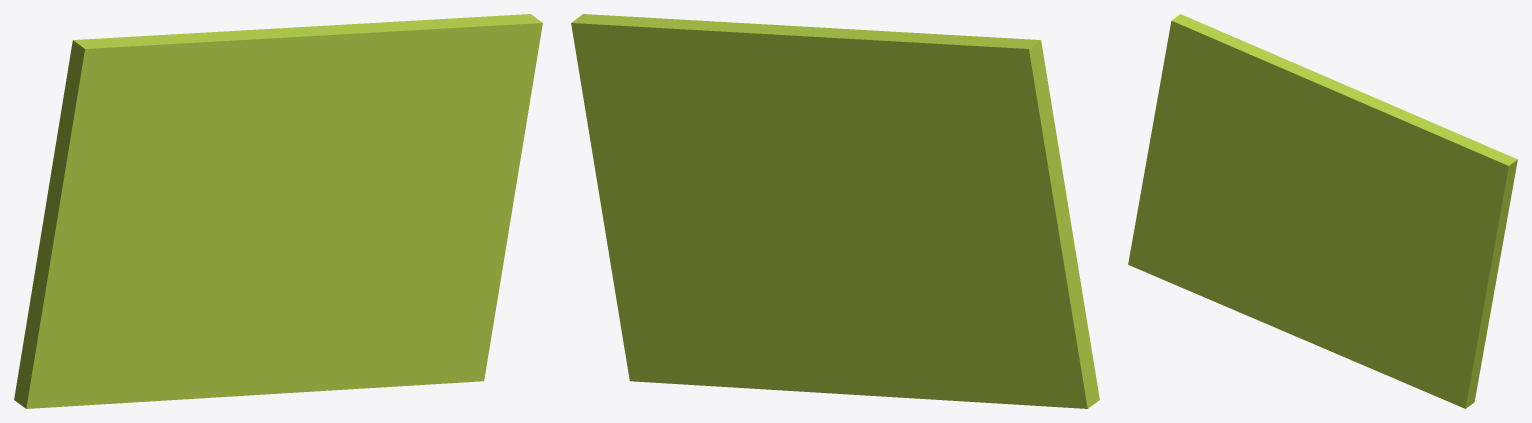
3 views of the same model, side by side, from view 1: azimuth 30°, elevation 25°; view 2: azimuth 150°, elevation 25°; view 3: azimuth 330°, elevation 25° (orthographic). The views are drawn at different scales.
Parts seen in each view (by area): view 1: osm-way27917482-F-1; view 2: osm-way27917482-F-1; view 3: osm-way27917482-F-1.
Boxes of the visible parts, <box> form: osm-way27917482-F-1: <box>14,14,542,408</box>; osm-way27917482-F-1: <box>571,14,1099,408</box>; osm-way27917482-F-1: <box>1128,14,1517,408</box>.
Size of the model in its own units: 3.65 by 2.9 by 0.15.
